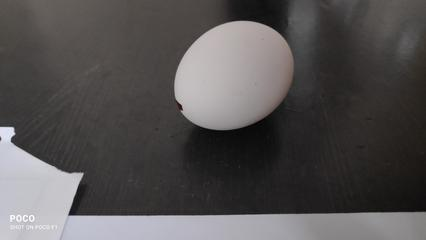eggs: (164, 15, 307, 126)
